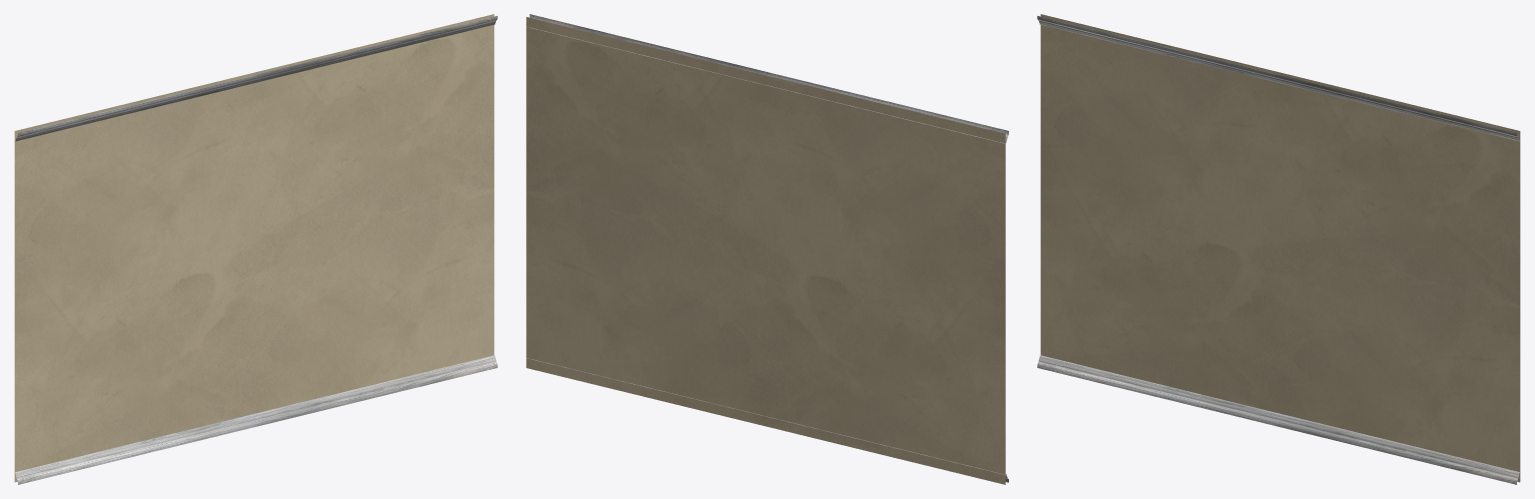
Rendered from Wall.fbx.
3 renders of one model, left to right at view 1: azimuth 30°, elevation 25°; view 2: azimuth 150°, elevation 25°; view 3: azimuth 330°, elevation 25°, orthographic.
Parts seen in each view (by area): view 1: Cube.010; view 2: Cube.010; view 3: Cube.010.
Part boxes in pixels (x1,y1,x2,y2): Cube.010: (14,14,497,484); Cube.010: (526,14,1008,484); Cube.010: (1037,14,1520,484).
Bounding box in the file's own units: 200 × 140 × 2.52.
